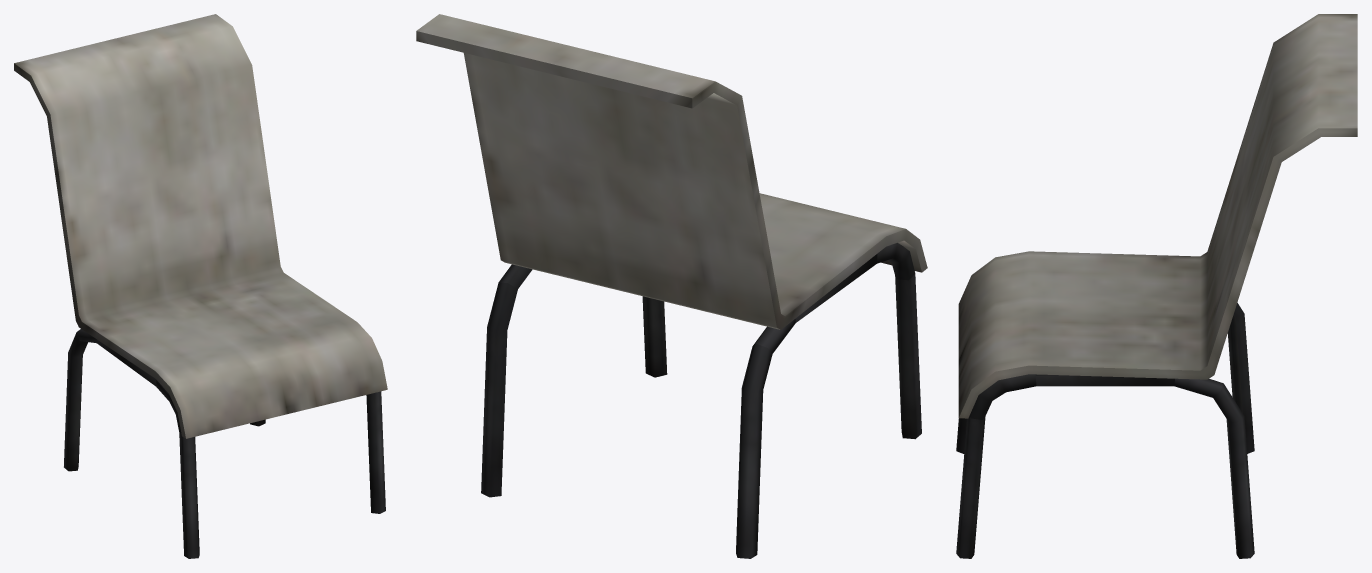
Rendered from MiniBR_Chair001.fbx.
3 views of the same model, side by side, from view 1: azimuth 30°, elevation 25°; view 2: azimuth 150°, elevation 25°; view 3: azimuth 270°, elevation 25° (orthographic). The views are drawn at different scales.
Visible parts, largest first — view 1: MiniBR_Chair001; view 2: MiniBR_Chair001; view 3: MiniBR_Chair001.
Part boxes in pixels (x1,y1,x2,y2): MiniBR_Chair001: [14, 14, 387, 558]; MiniBR_Chair001: [416, 14, 927, 558]; MiniBR_Chair001: [956, 14, 1357, 558].
Bounding box in the file's own units: 56.56 × 84.02 × 99.66.
Materials: 1 (1 with a texture image).
